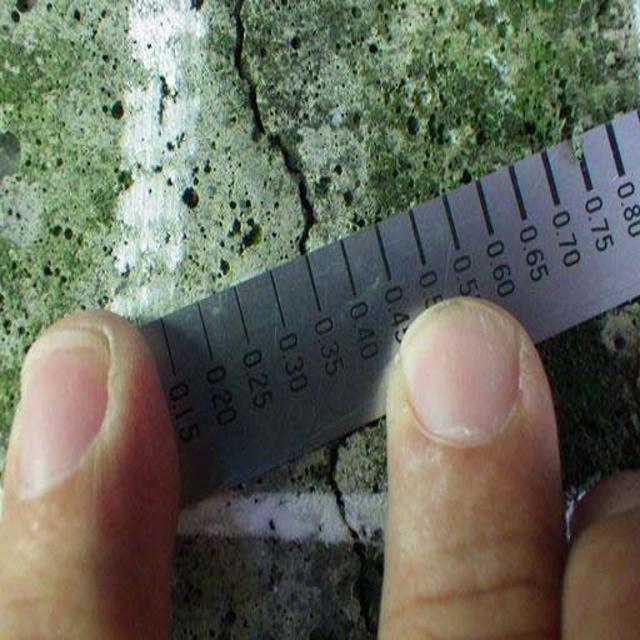crack: (218, 6, 332, 254), (313, 454, 391, 640)
